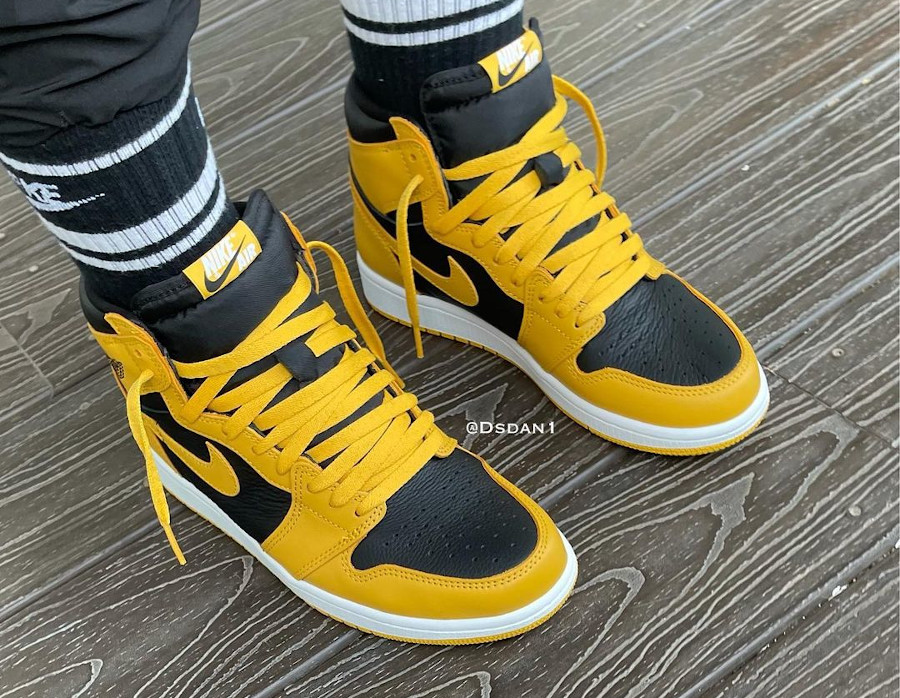Jordan 1: (55, 186, 586, 669), (341, 17, 776, 463)
